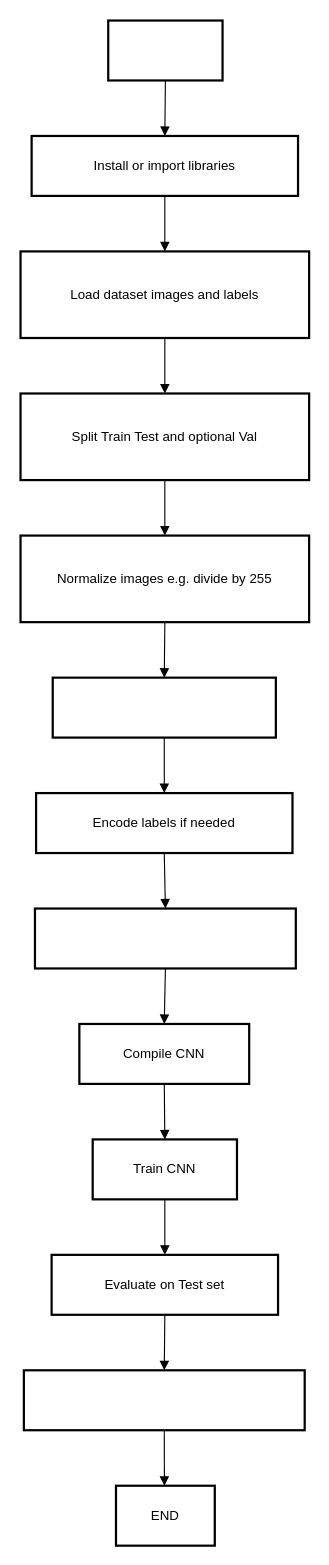
This 329x1565 diagram has some shape labels left out. Here are the shapes that lost their labels. From the top down, the centre of each, then its label:
At point (165, 50): "START".
At point (163, 707): "Reshape to 28x28x1".
At point (164, 938): "Define CNN architecture".
At point (163, 1400): "Compute metrics and plots".
